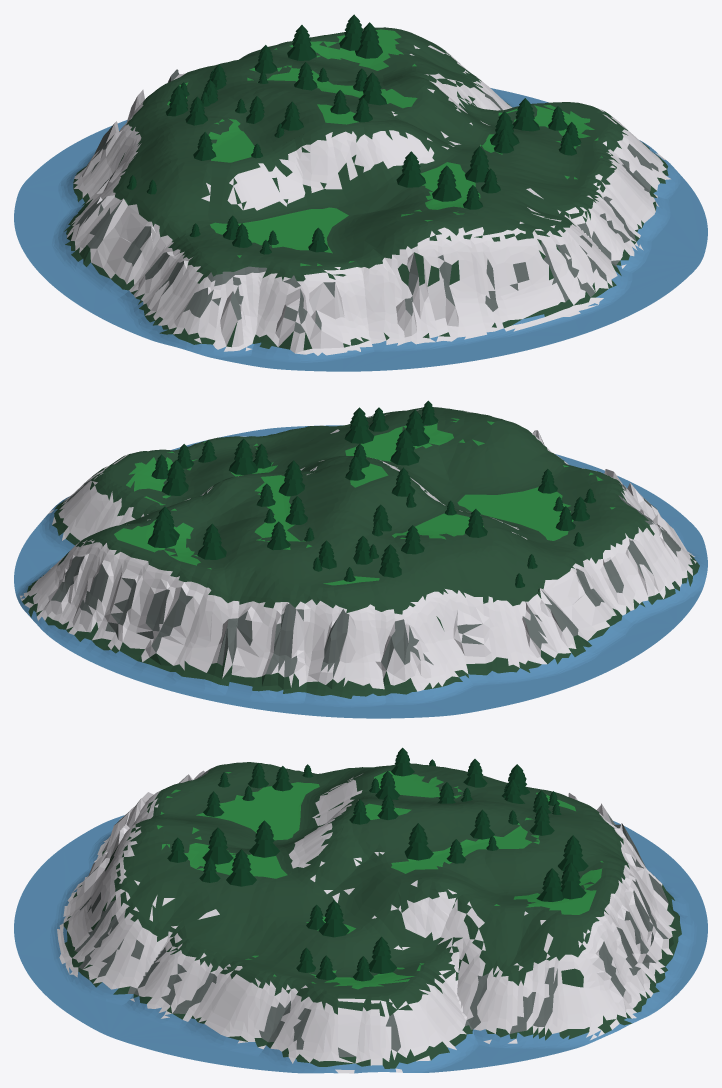
Rendered from Island02.fbx.
3 renders of one model, top to bottom at view 1: azimuth 30°, elevation 25°; view 2: azimuth 150°, elevation 25°; view 3: azimuth 270°, elevation 25°, orthographic. The views are drawn at different scales.
Parts seen in each view (by area): view 1: Cube.001; view 2: Cube.001; view 3: Cube.001.
Boxes of the visible parts, bbox=[...] form: Cube.001: bbox=[14, 14, 707, 371]; Cube.001: bbox=[14, 400, 707, 718]; Cube.001: bbox=[14, 747, 707, 1073].
Bounding box in the file's own units: 91.54 × 18.97 × 91.53.
